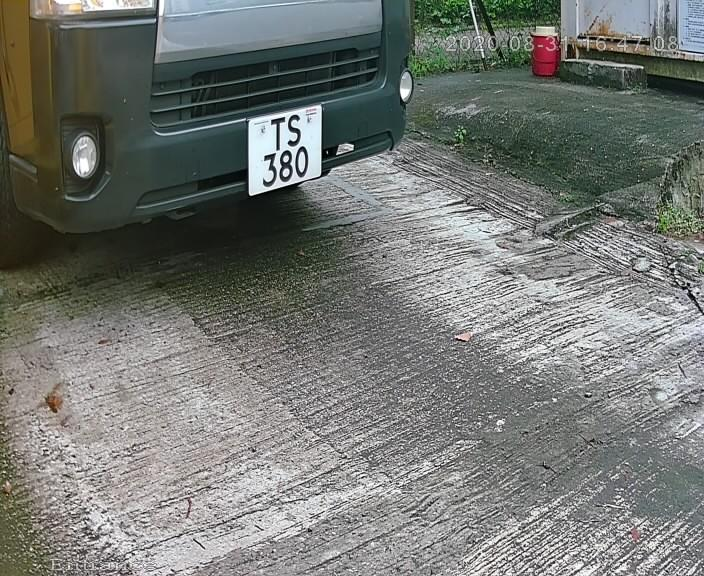License Plate: (236, 98, 334, 204)
